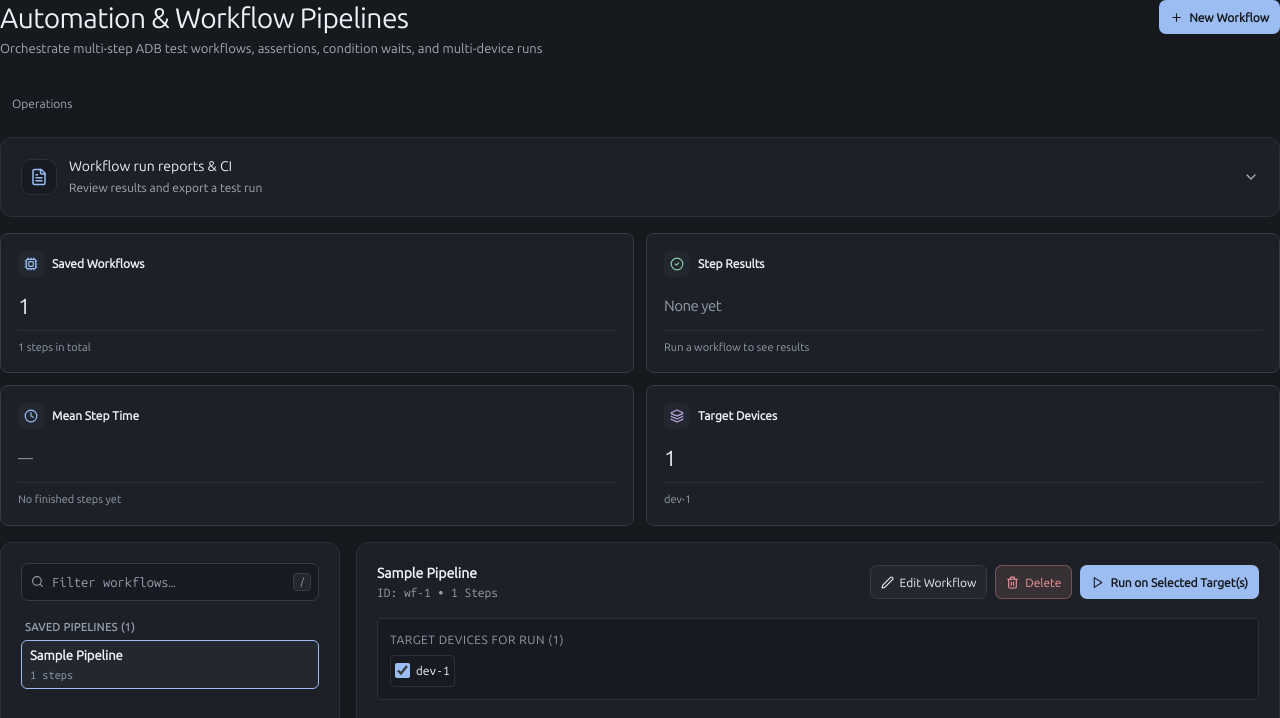
it: AutomationPage Step Parameter Accordion › renders step parameter controls and initializes with defaults
// Click "New Workflow"
Click the button "New Workflow": (1220, 17) [1159,0,1279,34]
(page scrolled)
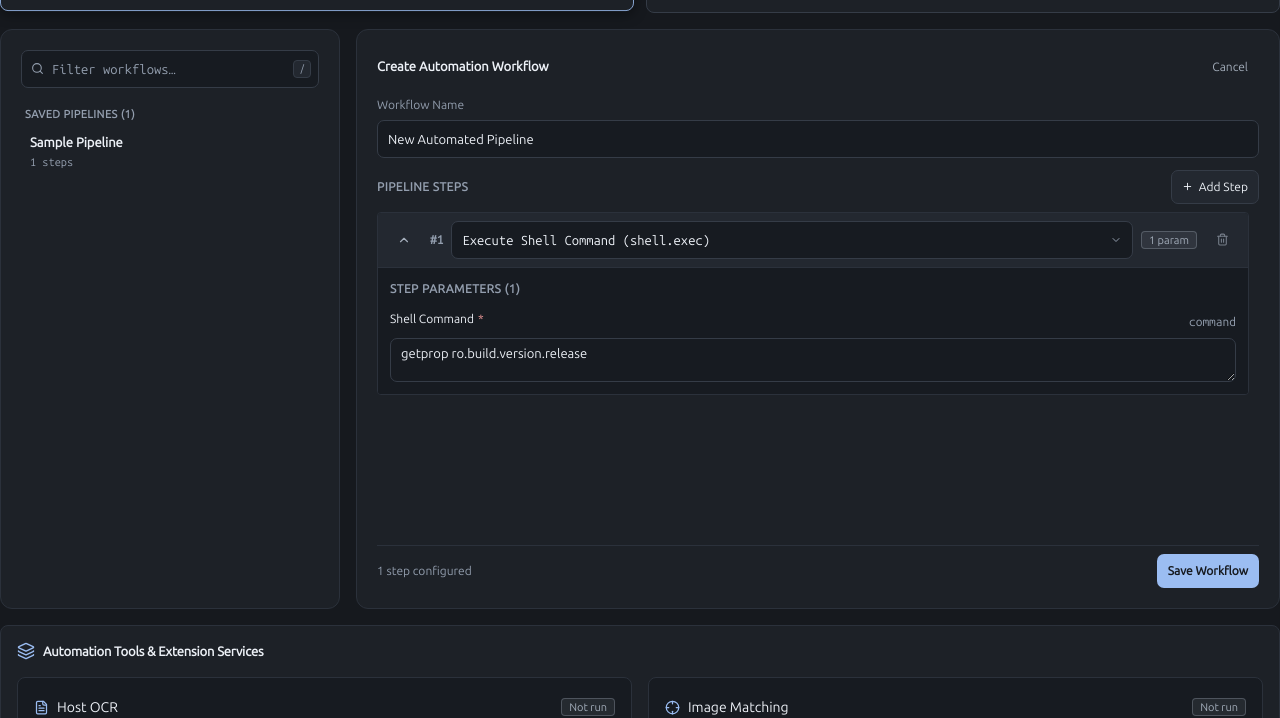
Now the text "Step Parameters (1)" is shown, box [390,282,520,295]
Now the text box labelled "Shell Command*" holds "getprop ro.build.version.release", box [390,338,1236,382]
